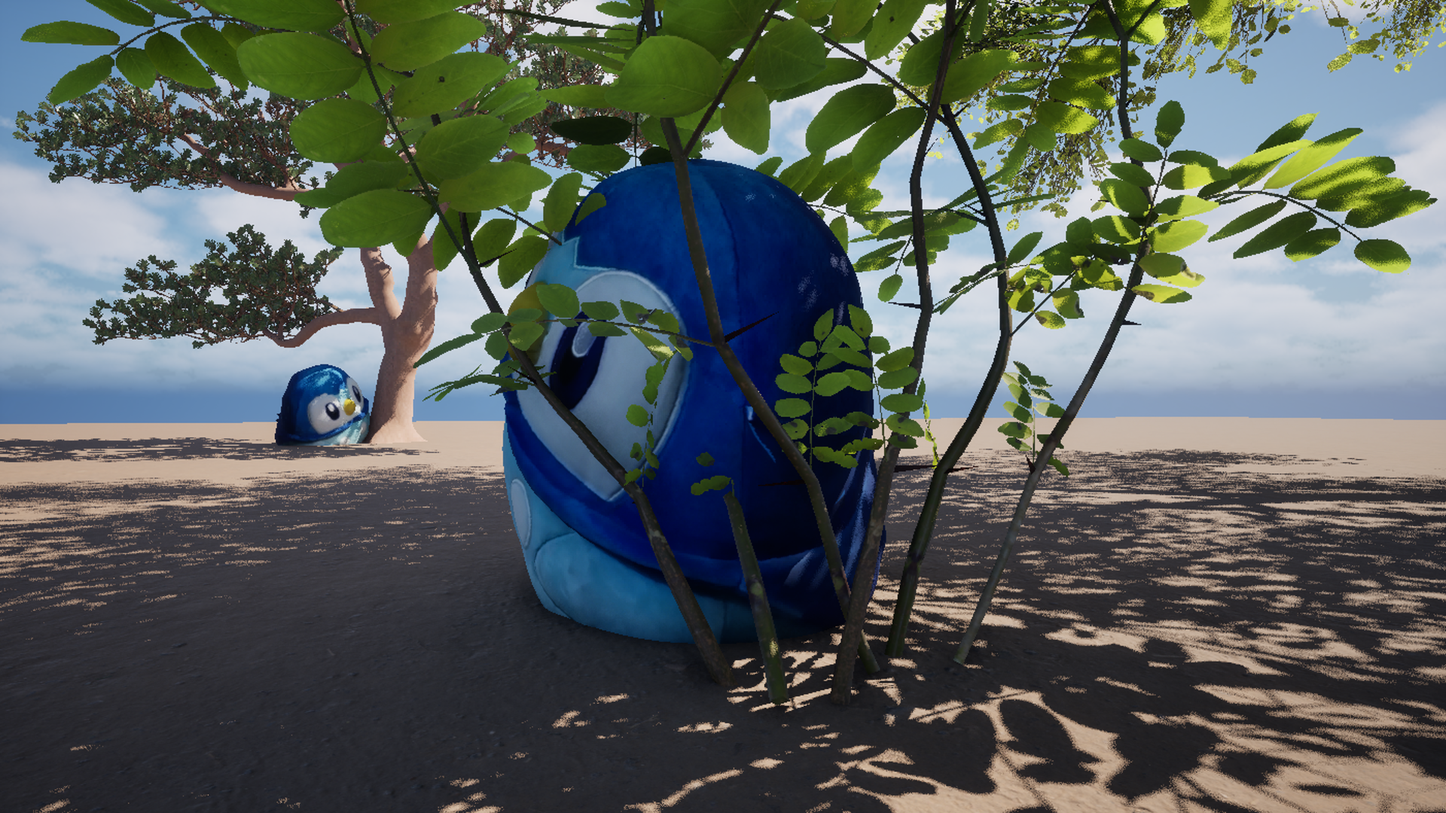Piplup: (496, 0, 1180, 813)
